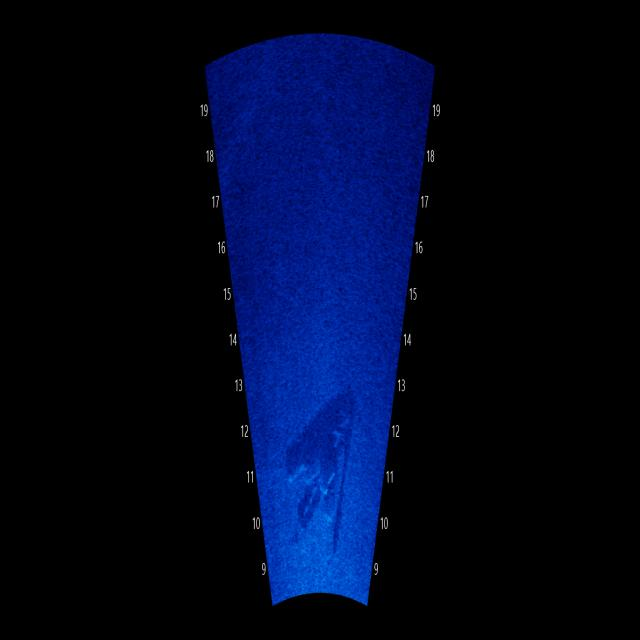triangle: (279, 379, 362, 560)
